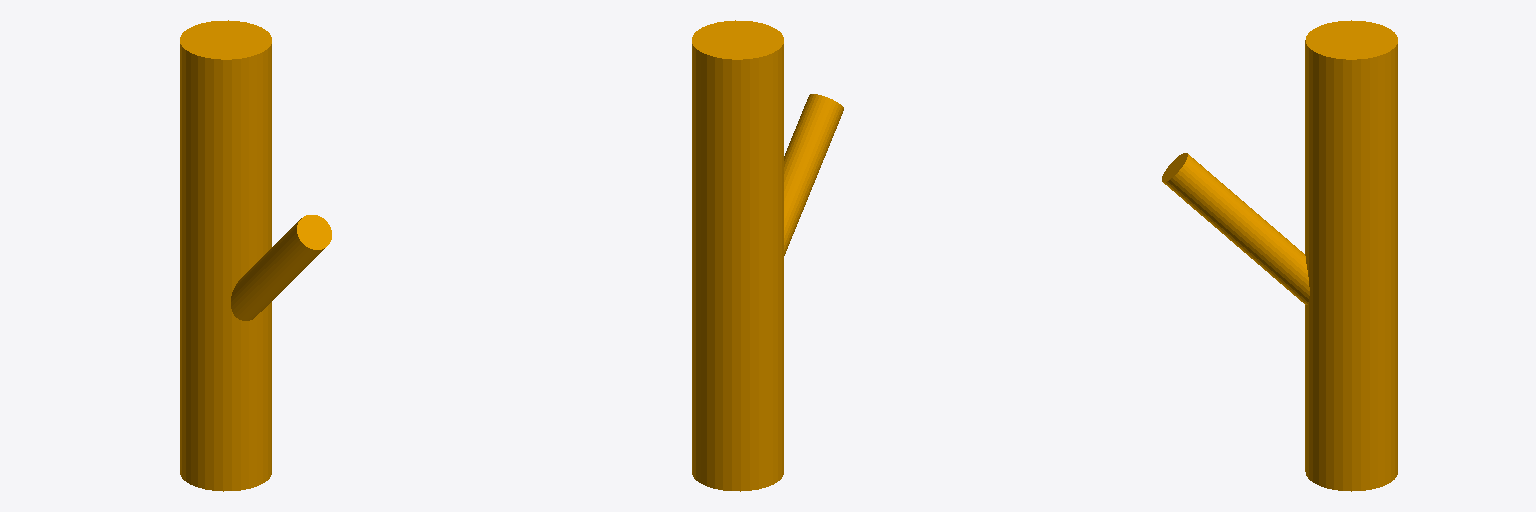
robot.urdf — syn_rack_46:
<?xml version="1.0" ?>
<robot name="syn_rack_46">
    <link concave="yes" name="base_link">
        <inertial>
            <origin rpy="0 0 0" xyz="0 0 0"/>
            <mass value="0.0"/>
            <inertia ixx="1e-08" ixy="0" ixz="0" iyy="1e-08" iyz="0" izz="1e-08"/>
        </inertial>
        <visual>
            <origin xyz="0 0 0" rpy="0 0 0" />
            <geometry>
                <mesh filename="syn_rack_46.obj" scale="1.000000 1.000000 1.000000"/>
            </geometry>
        </visual>

        <collision concave="yes">
            <origin xyz="0 0 0" rpy="0 0 0"/>
            <geometry>
                <mesh filename="syn_rack_46.obj" scale="1.000000 1.000000 1.000000"/>
            </geometry>
        </collision>
    </link>
</robot>
    

--- Render facts (derived) ---
The picture shows the robot from 3 angles, left to right: view 1: azimuth 30°, elevation 25°; view 2: azimuth 150°, elevation 25°; view 3: azimuth 270°, elevation 25°; orthographic projection.
Robot: syn_rack_46 — 1 links, 0 joints (none); root link base_link; default pose: all joints at 0.
Links seen in each view (by area): view 1: base_link; view 2: base_link; view 3: base_link.
Link boxes in pixels (<box>): base_link: <box>180,20,331,491</box>; base_link: <box>692,20,843,491</box>; base_link: <box>1162,20,1397,491</box>.
Bounding box of the posed robot: 0.1949 × 0.4968 × 1 m (x, y, z).
1 mesh visuals loaded from 1 distinct referenced files (1 OBJ).
